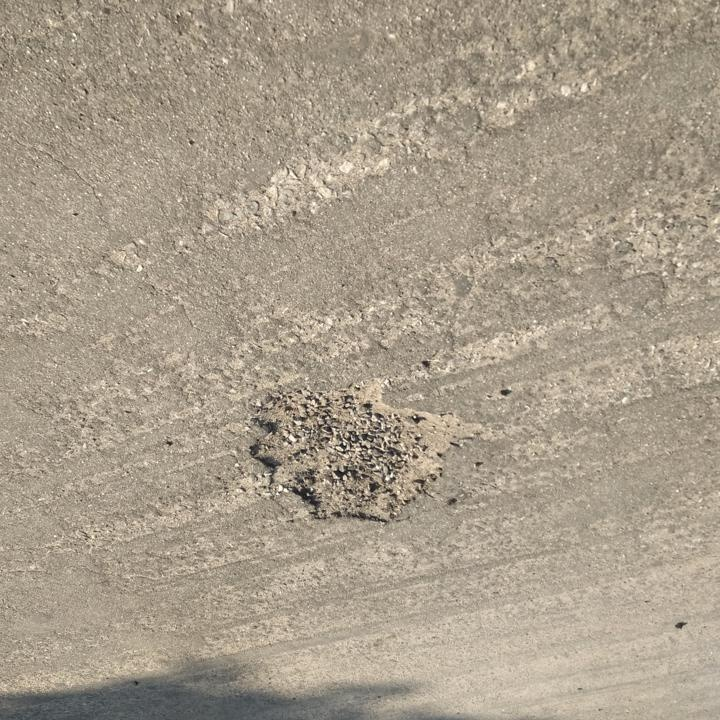pothole: (242, 372, 483, 529)
